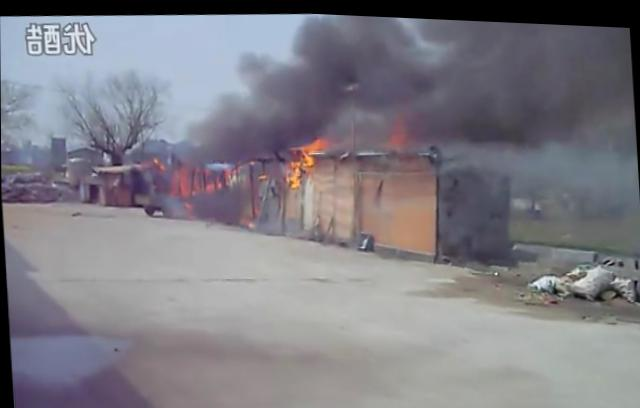fire: (287, 156, 302, 185), (301, 134, 330, 148), (304, 146, 315, 164)
